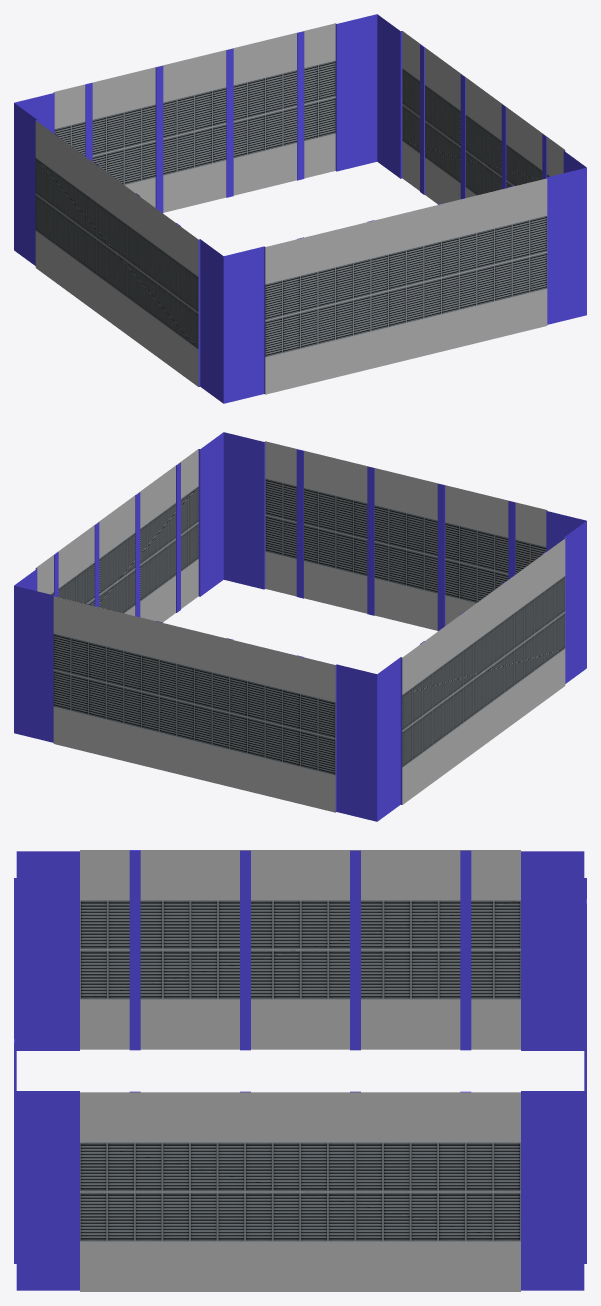
File: Elevator_01_Shaft.FBX
The picture shows the model from 3 angles, top to bottom: view 1: azimuth 30°, elevation 25°; view 2: azimuth 150°, elevation 25°; view 3: azimuth 270°, elevation 25°; orthographic projection. The views are drawn at different scales.
Visible parts, largest first — view 1: Elevator_01_Shaft; view 2: Elevator_01_Shaft; view 3: Elevator_01_Shaft.
Part boxes in pixels (x1,y1,x2,y2): Elevator_01_Shaft: (14, 14, 586, 403); Elevator_01_Shaft: (14, 432, 586, 821); Elevator_01_Shaft: (14, 850, 586, 1291).
Bounding box in the file's own units: 10.4 × 4 × 10.4.
